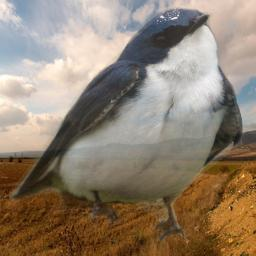Swallow: (9, 7, 245, 243)
